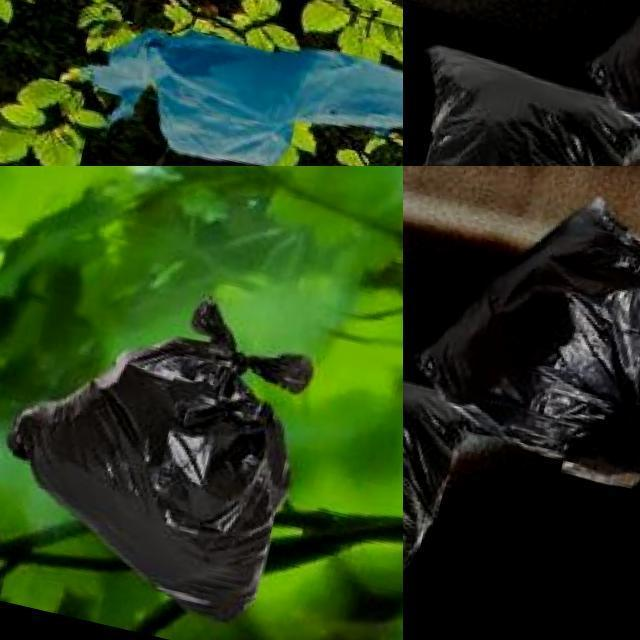waste: (0, 263, 328, 631), (403, 171, 640, 494), (78, 1, 403, 166), (403, 28, 639, 166), (403, 320, 468, 640), (572, 0, 640, 166)
